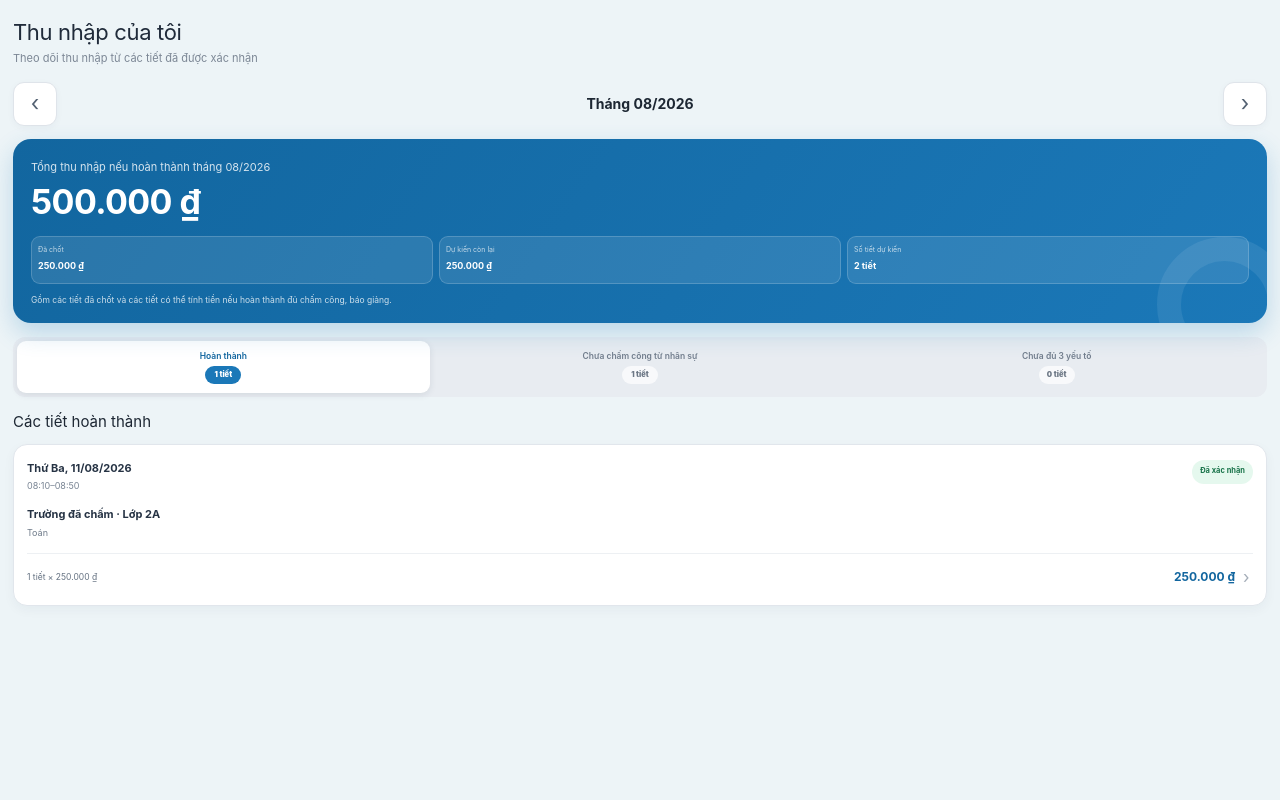
TeacherIncomeScreen › cho phép bấm tab để xem chi tiết từng nhóm tiết
Expected: the tab "Hoàn thành 1 tiết" is shown, [17,341,430,393]
Step 1. Click the tab "Chưa chấm công từ nhân sự 1 tiết" → coordinates (640, 367), box [434,341,846,393]
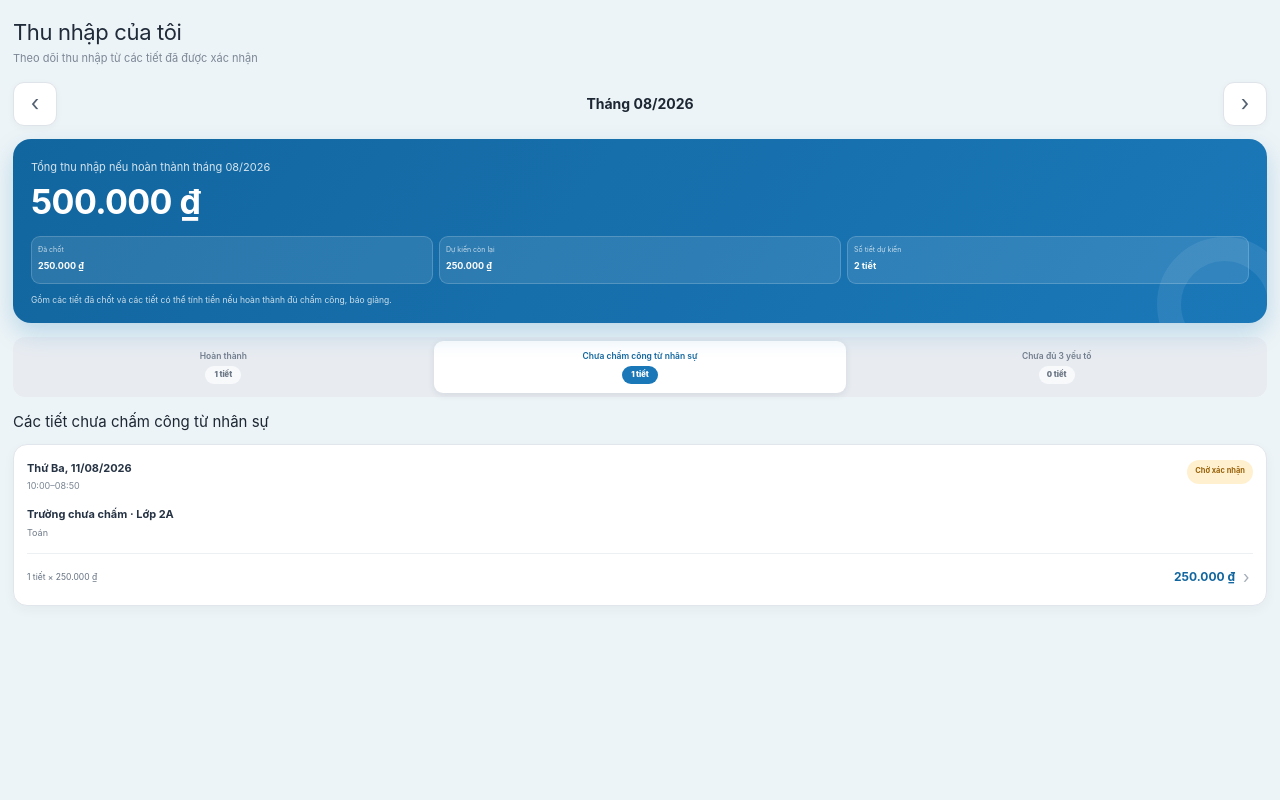
Now the heading "Các tiết chưa chấm công từ nhân sự" is shown, box [13,412,269,431]
Now the text "Trường chưa chấm · Lớp 2A" is shown, box [27,507,174,521]
Step 2. Click the tab "Hoàn thành 1 tiết" → coordinates (223, 367), box [17,341,430,393]
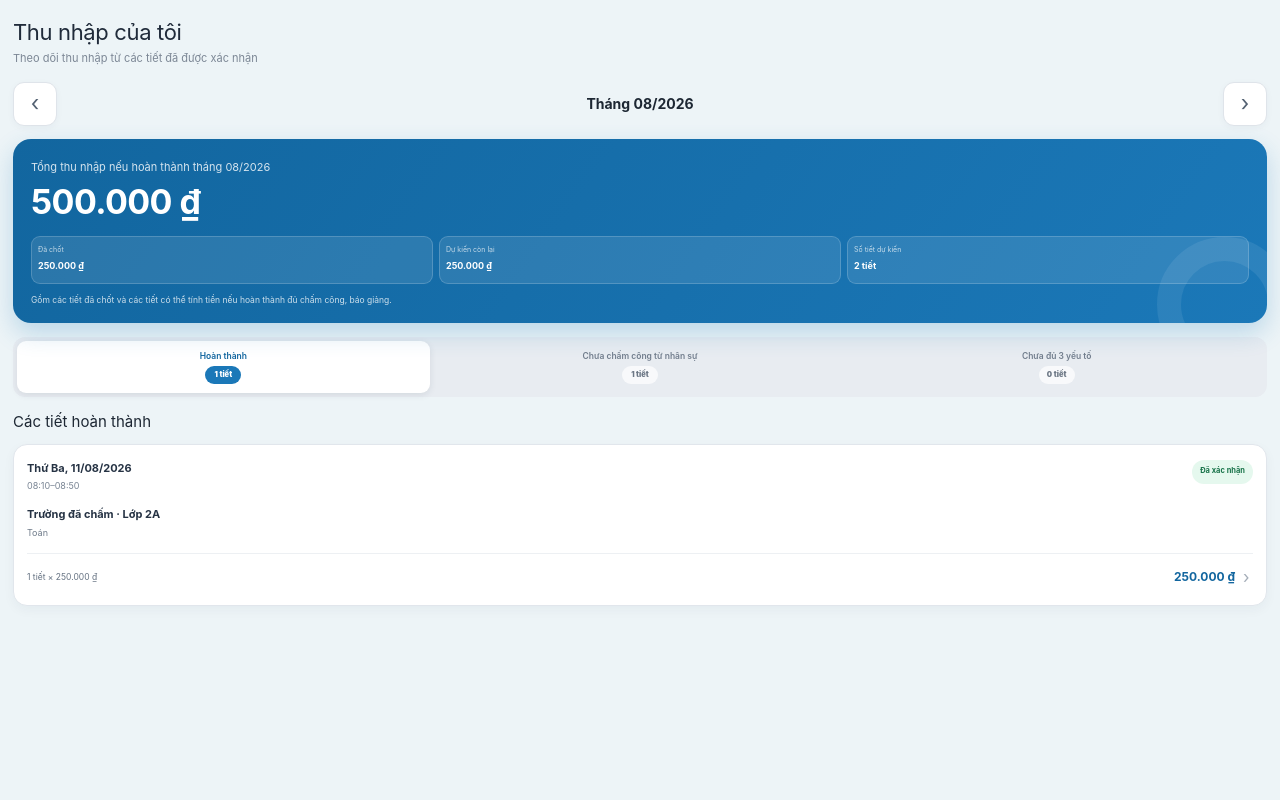
Now the heading "Các tiết hoàn thành" is shown, box [13,412,151,431]
Now the text "Trường đã chấm · Lớp 2A" is shown, box [27,507,160,521]
